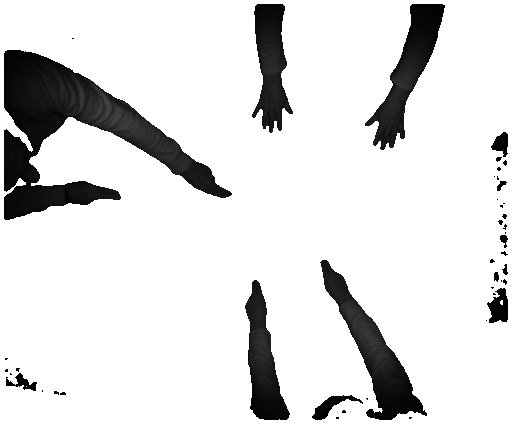hand: (360, 103, 408, 151), (252, 86, 295, 135), (68, 180, 127, 207), (240, 280, 271, 331), (186, 164, 231, 199), (320, 256, 350, 305)
